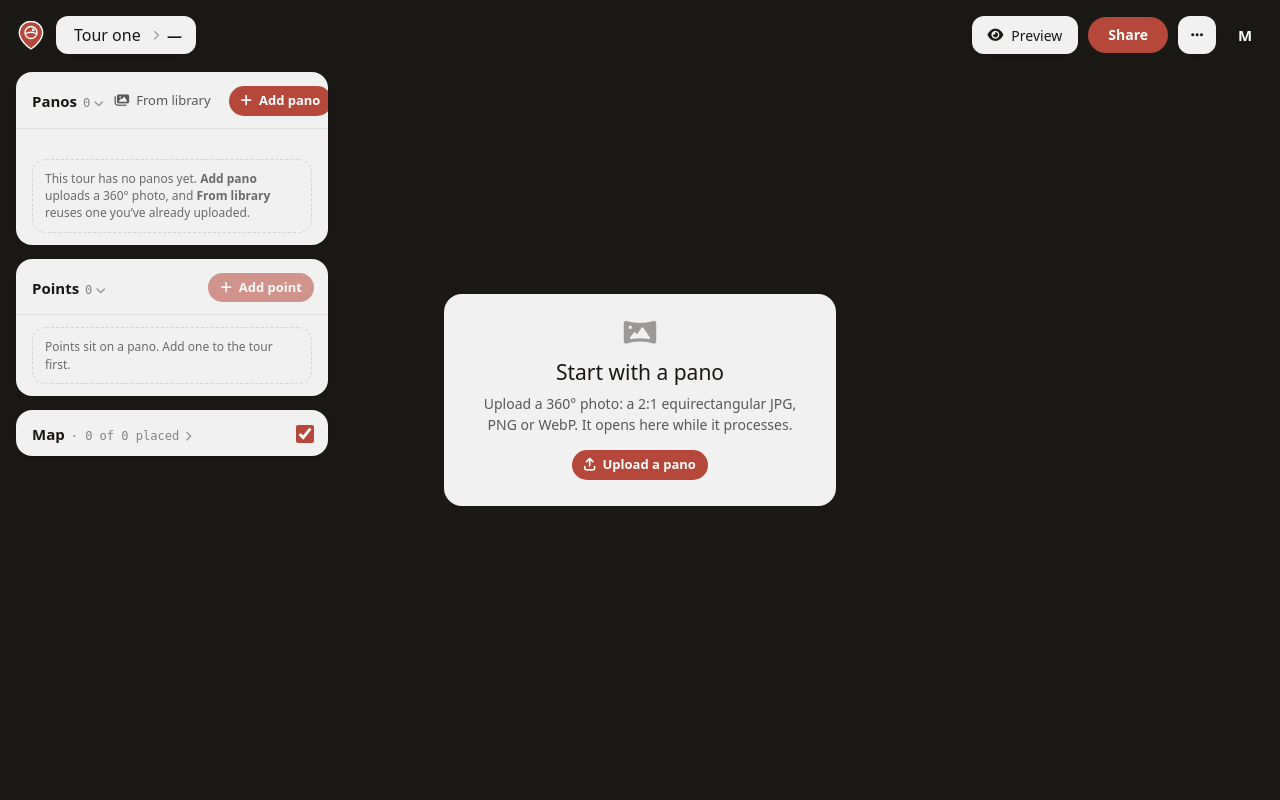
it: the account window › opens over the editor, keeping its unsaved edits and its address
Click the button with aria-label "Tour title: Tour one": (107, 35) x1=70 y1=22 x2=145 y2=48
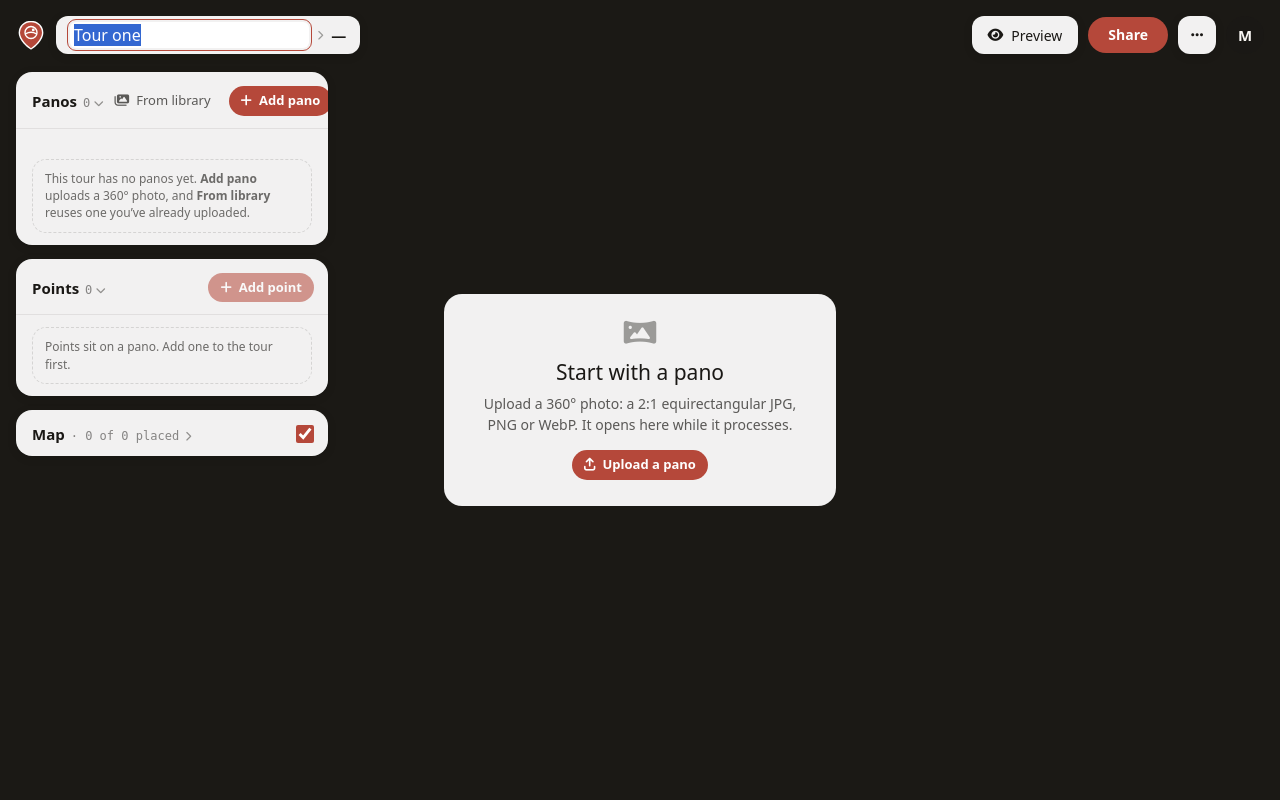
Replace the text in the field named "Tour title" with "Tour two": (190, 35) x1=70 y1=22 x2=309 y2=48
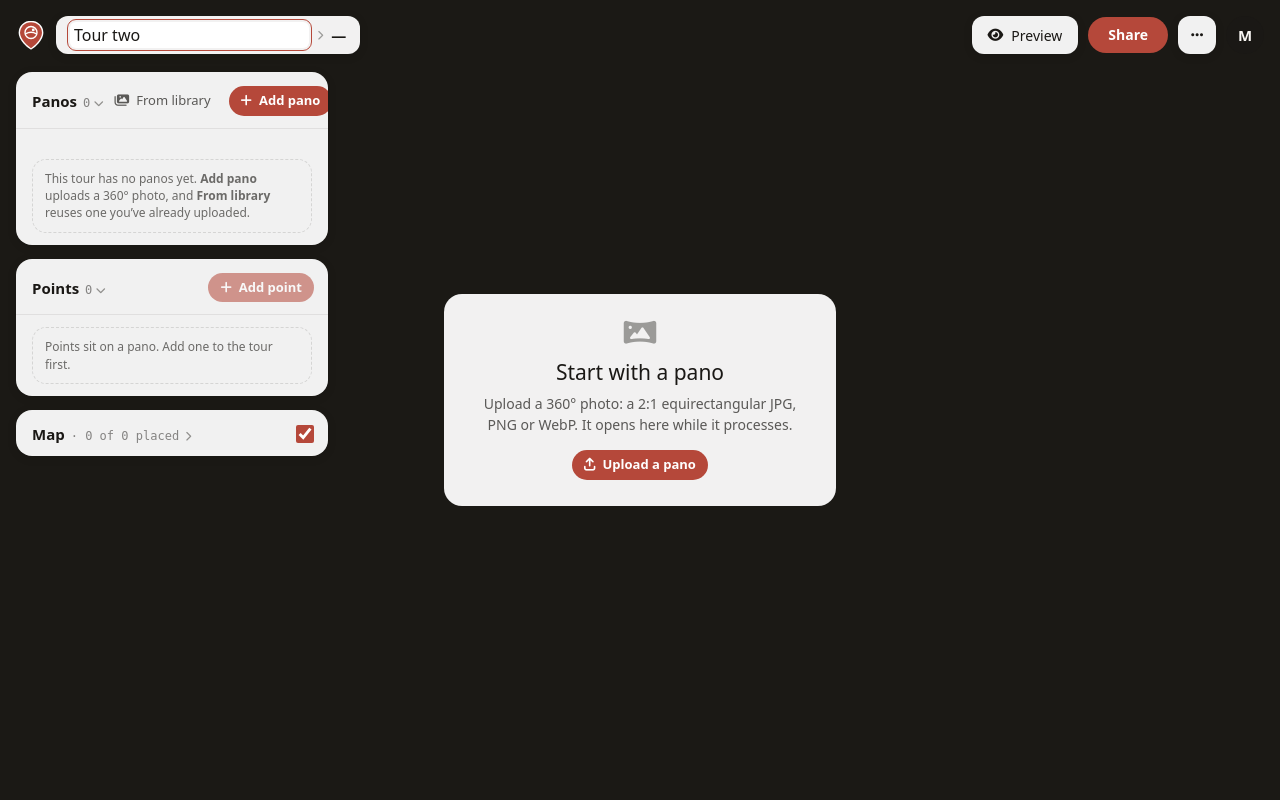
Press Enter in the field named "Tour title", box x1=70 y1=22 x2=309 y2=48
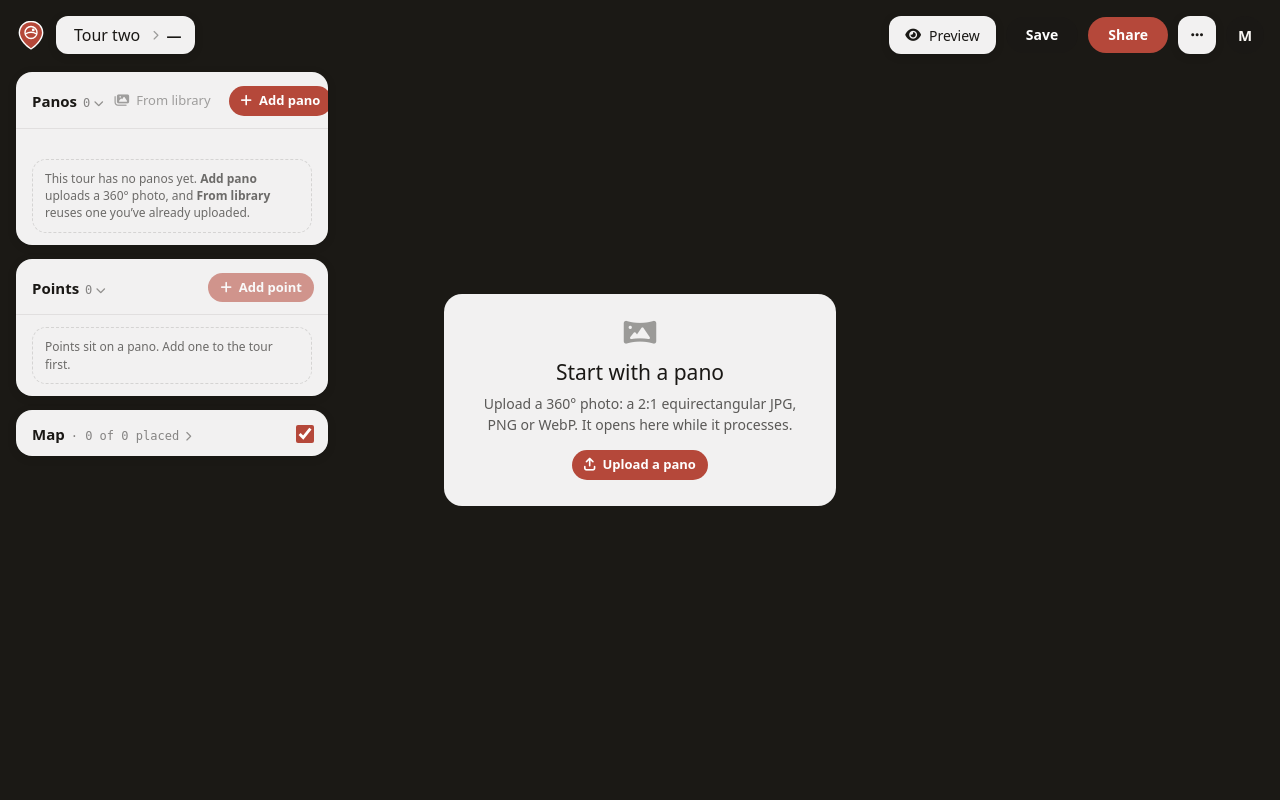
Check: the button with aria-label "Tour title: Tour two" is shown, box x1=70 y1=22 x2=144 y2=48
Click the button named "Account: ": (1245, 35) x1=1226 y1=16 x2=1264 y2=54
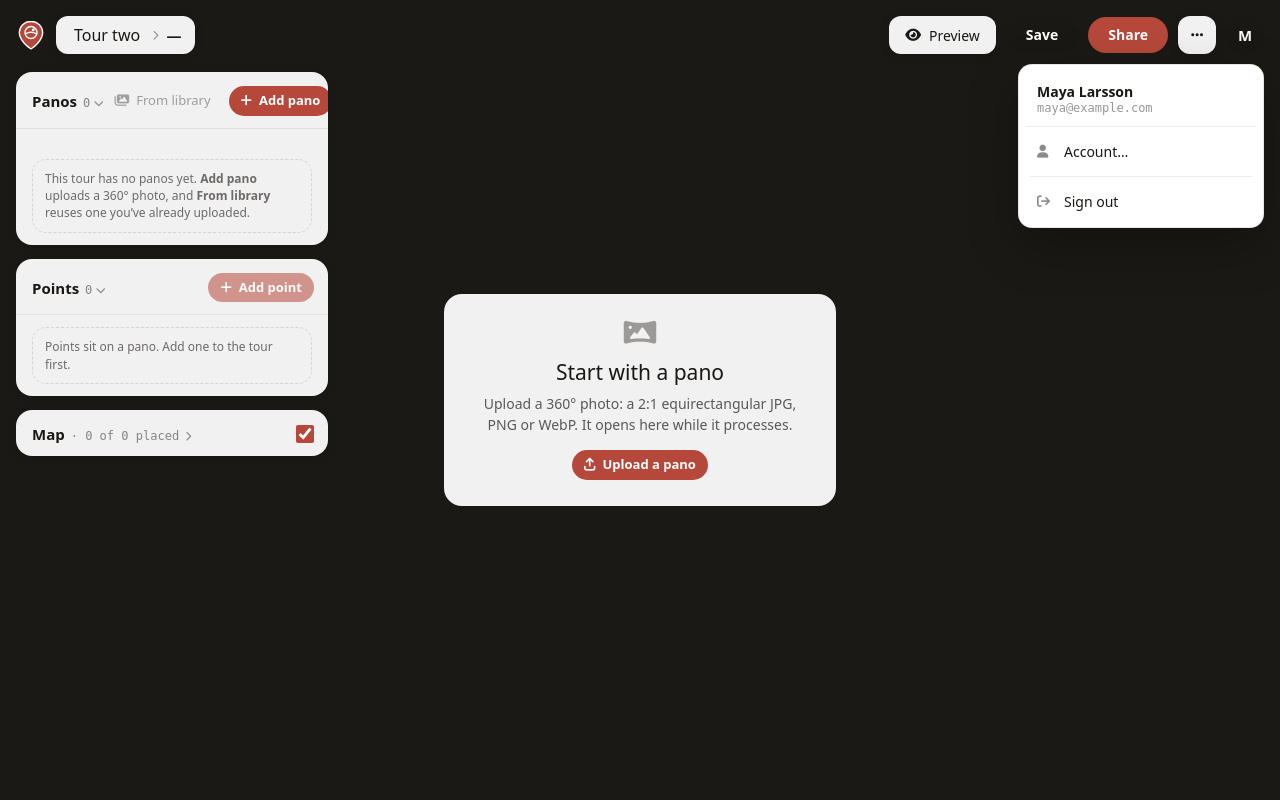
Click the menu item "Account…": (1141, 152) x1=1026 y1=133 x2=1256 y2=170
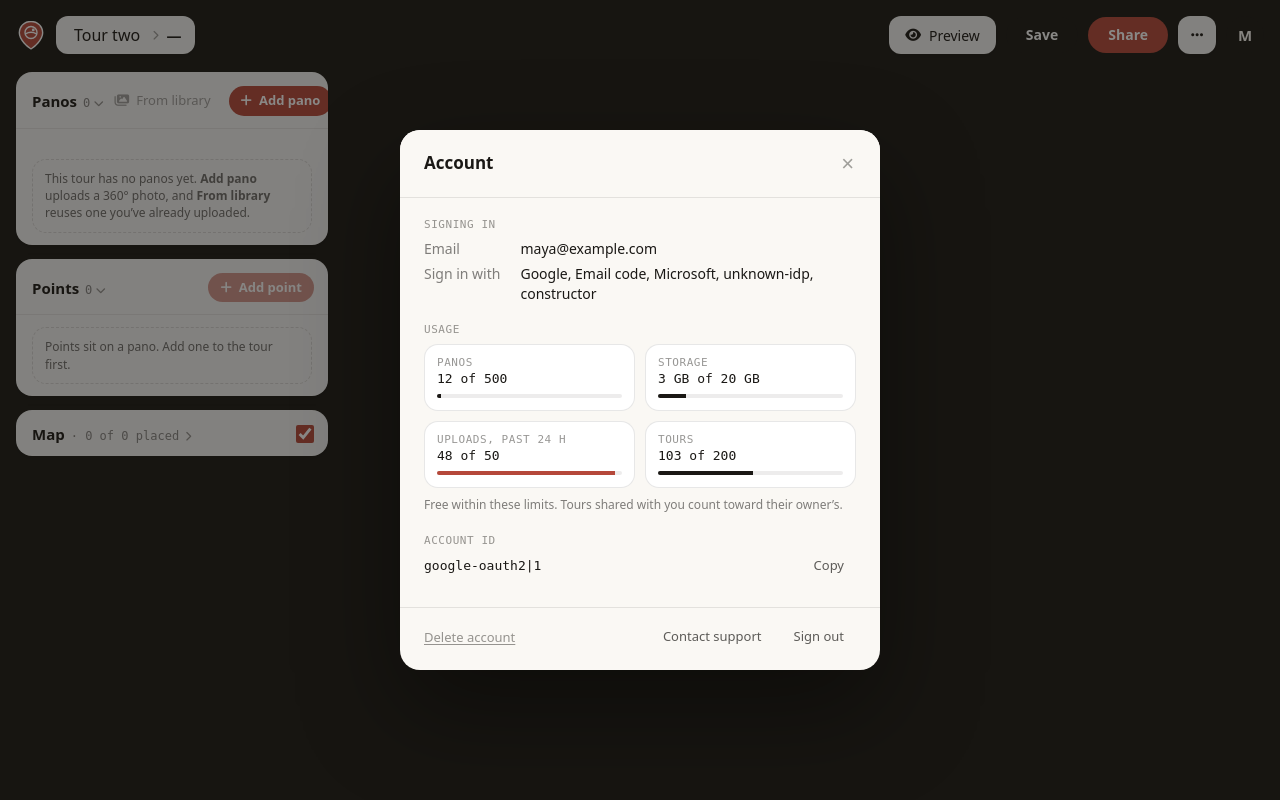
Check: the text "maya@example.com" is shown, box x1=520 y1=239 x2=657 y2=258
Click the button named "Close": (848, 164) x1=839 y1=152 x2=856 y2=174
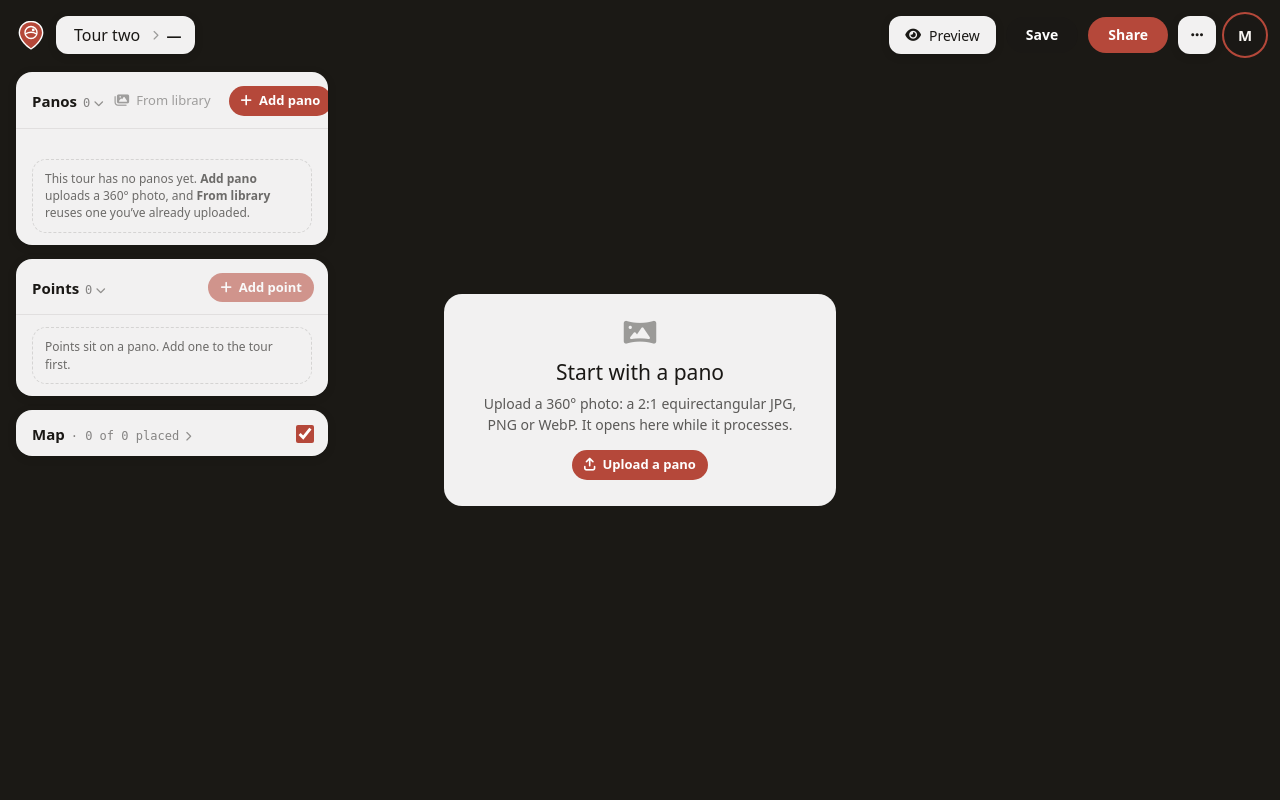
Check: the button with aria-label "Tour title: Tour two" is shown, box x1=70 y1=22 x2=144 y2=48
Check: the heading "Account" is gone
